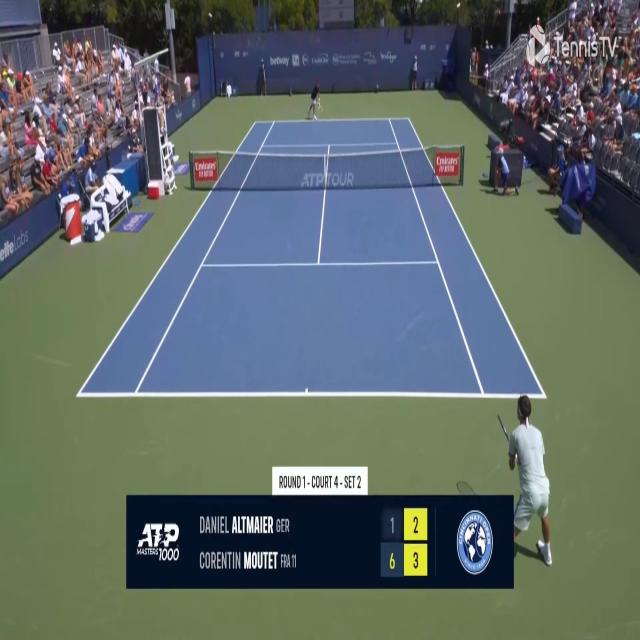tennis-player: (492, 380, 556, 581), (306, 77, 323, 121)
